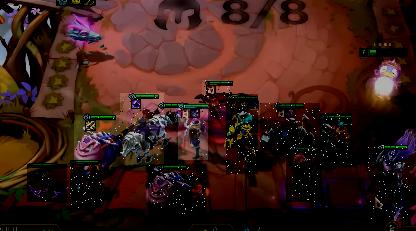1_leesin: (70, 160, 102, 208)
1_senna: (202, 80, 230, 126)
1_varus: (27, 164, 67, 202)
2_aphelios: (178, 104, 208, 160)
2_nilah: (320, 113, 352, 165)
2_nomsy: (148, 164, 206, 214), (74, 115, 120, 167)
2_pantheon: (368, 144, 410, 222)
2_rakan: (120, 93, 164, 165)
2_rengar: (260, 103, 320, 155)
2_zippy: (286, 144, 322, 202)
3_graves: (226, 94, 258, 174)
